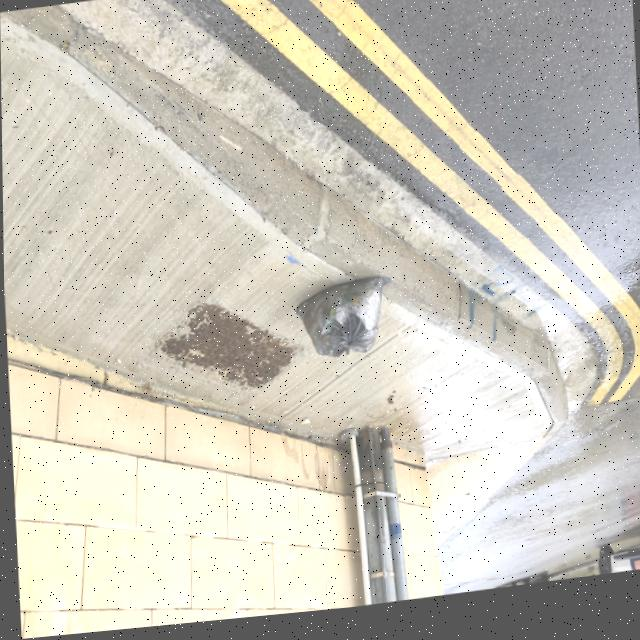Mixed Waste -Black Bag-: (299, 281, 389, 367)
